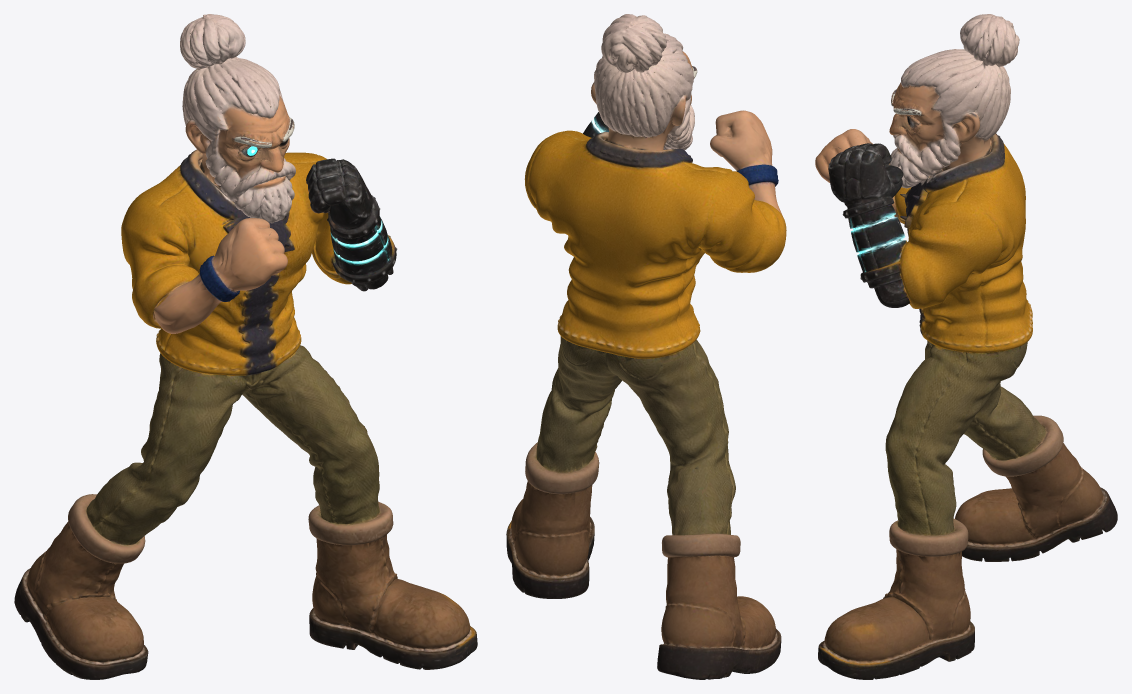
Rendered from gig.glb.
3 views of the same model, side by side, from view 1: azimuth 30°, elevation 25°; view 2: azimuth 150°, elevation 25°; view 3: azimuth 270°, elevation 25° (orthographic). The views are drawn at different scales.
Parts seen in each view (by area): view 1: GIG; view 2: GIG; view 3: GIG.
Part boxes in pixels (x1,y1,x2,y2): GIG: (14, 14, 477, 679); GIG: (506, 14, 786, 679); GIG: (815, 14, 1117, 679).
Bounding box in the file's own units: 1.02 × 1.8 × 0.8508.
Materials: 4 (1 with a texture image).
